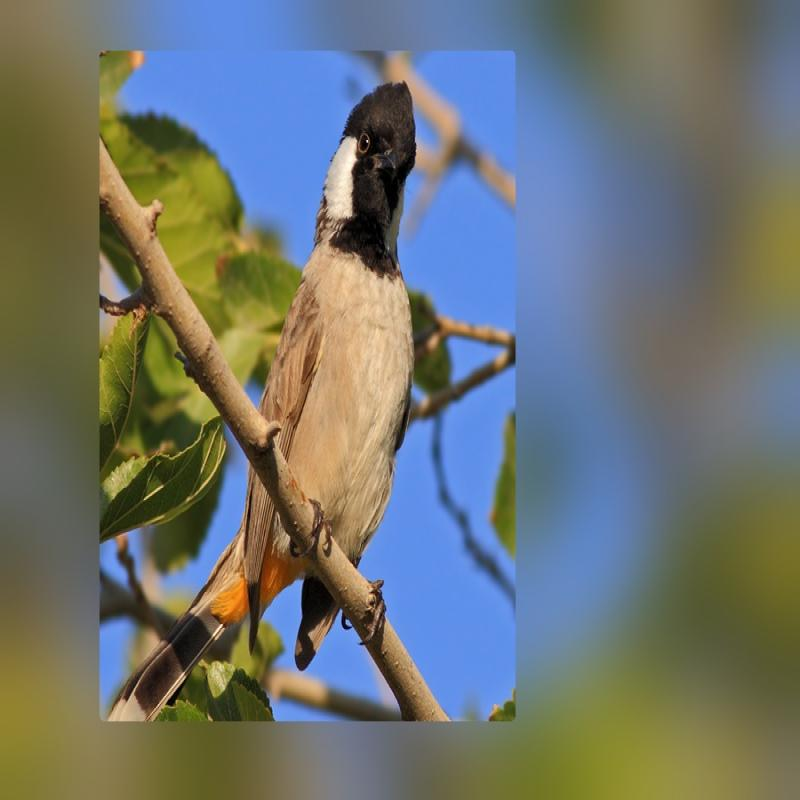white-eared bulbul: (100, 72, 430, 720)
